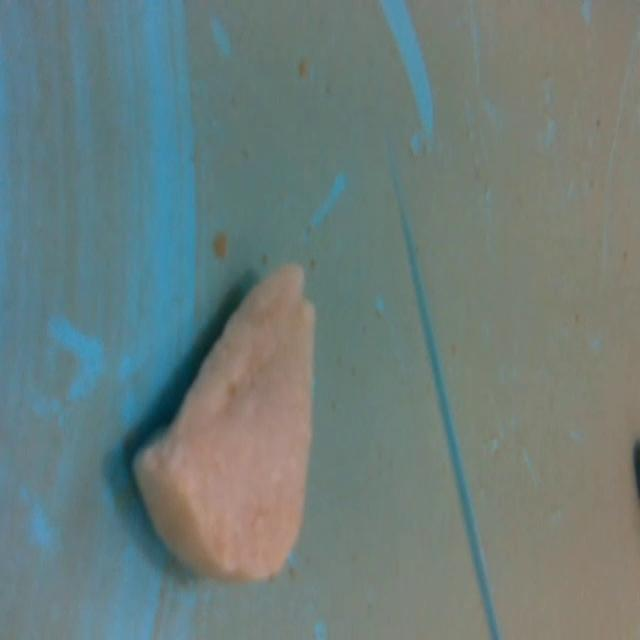rock: (123, 255, 322, 590)
